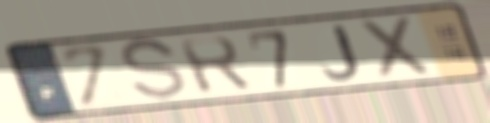7: (58, 41, 111, 109), (243, 28, 291, 91)
J: (319, 23, 364, 82)
R: (174, 34, 256, 97)
S: (119, 35, 190, 105)
X: (356, 13, 438, 82)
